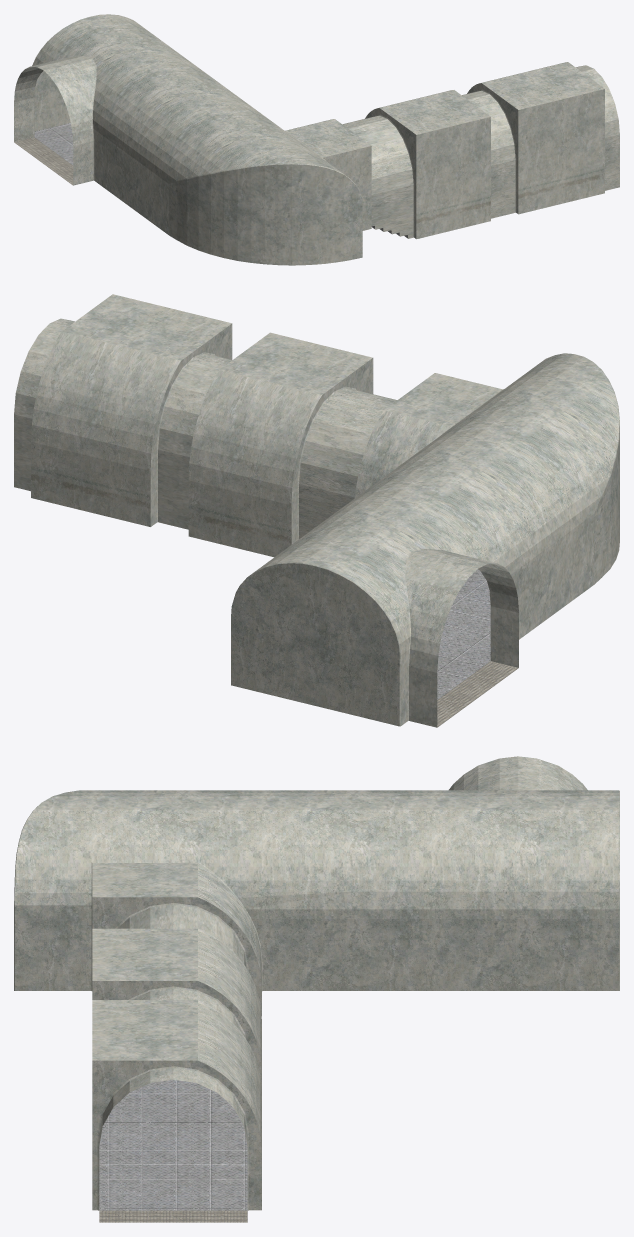
The model's file is thm_corl_cantina_r14_back_hallway_mesh_r14.fbx.
3 views of the same model, one above another, from view 1: azimuth 30°, elevation 25°; view 2: azimuth 150°, elevation 25°; view 3: azimuth 270°, elevation 25° (orthographic). The views are drawn at different scales.
Visible parts, largest first — view 1: mesh_node; view 2: mesh_node; view 3: mesh_node.
Boxes of the visible parts, x1=… form: mesh_node: x1=14, y1=14, x2=619, y2=265; mesh_node: x1=14, y1=294, x2=619, y2=727; mesh_node: x1=14, y1=756, x2=619, y2=1222.
Size of the model in its own units: 21.02 by 5.74 by 17.86.
